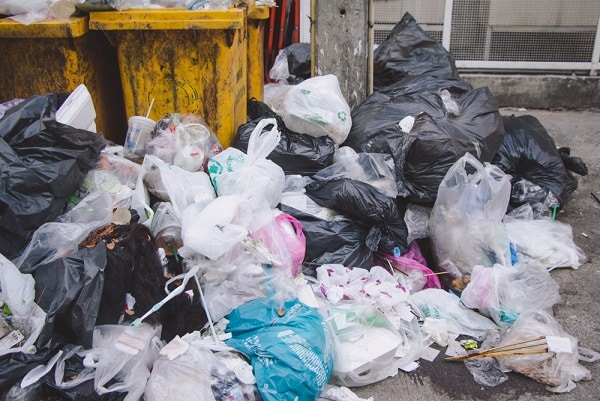kantong: (352, 79, 507, 210), (0, 94, 107, 255), (214, 295, 333, 401), (430, 152, 520, 285), (497, 306, 600, 395), (59, 324, 163, 401), (208, 115, 287, 208), (264, 71, 354, 144)
